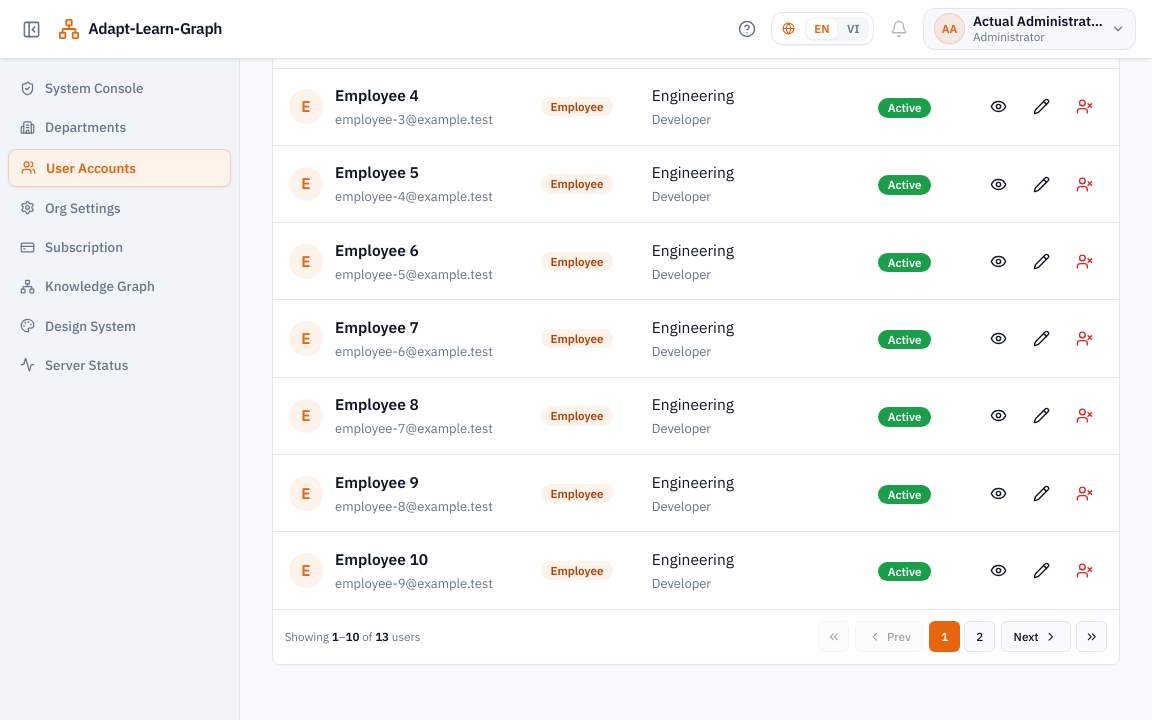
Test case: Administrator page ownership › paginates the directory and keeps a truthful filtered empty state
(page scrolled)
Check: the text "Employee 11" is not shown
Click the button with aria-label "Next page" at (1036, 637), box [1001,621,1071,652]
(page scrolled)
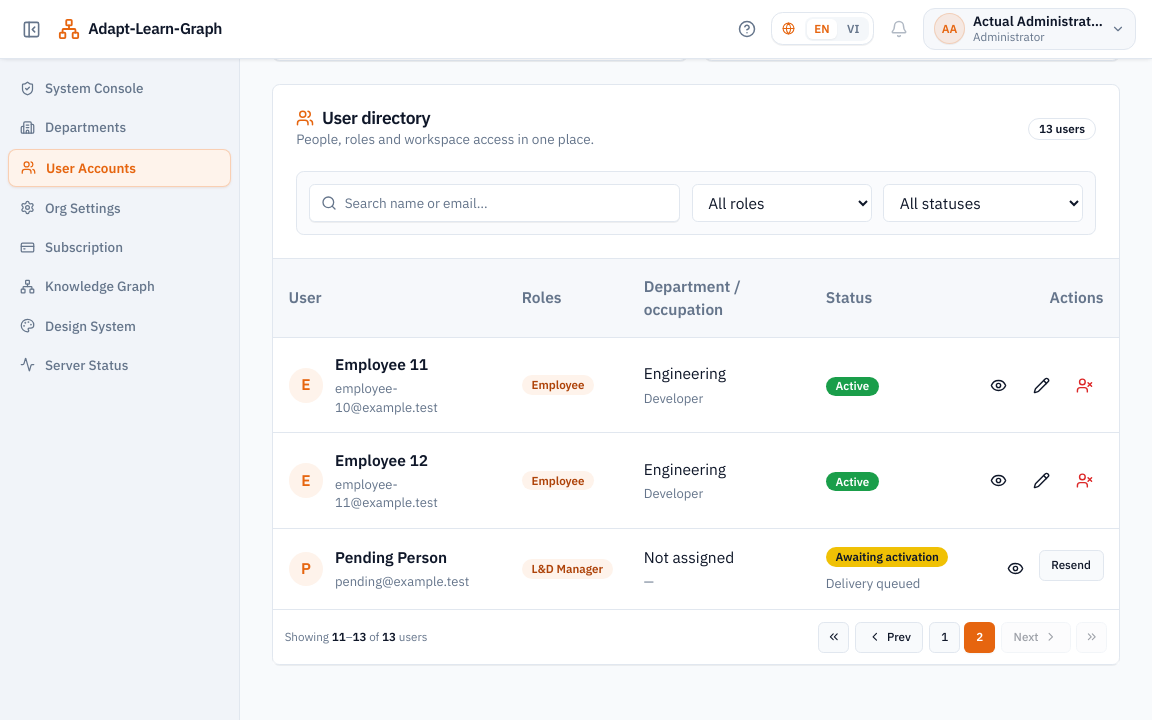
Check: the text "Employee 11" is shown, box [335,354,428,374]
Type "not-a-member" into the field named "Search users" at (494, 203), box [309,184,680,222]
(page scrolled)
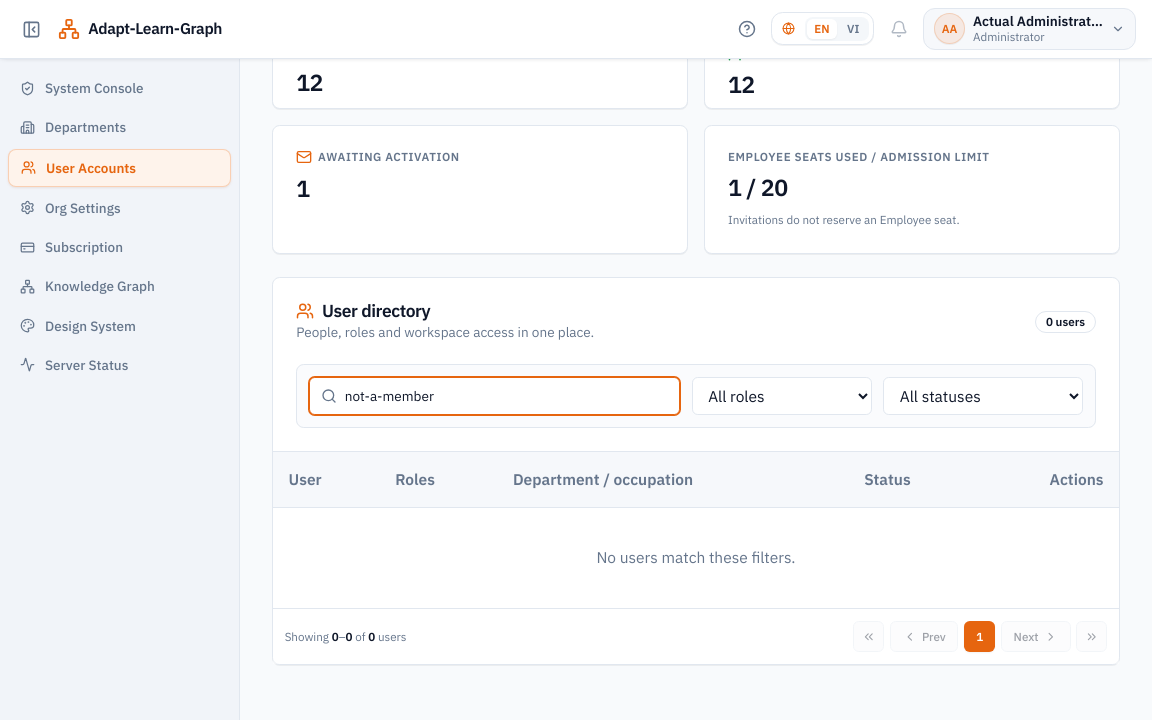
Check: the text "No users match these filters." is shown, box [273,507,1119,608]
